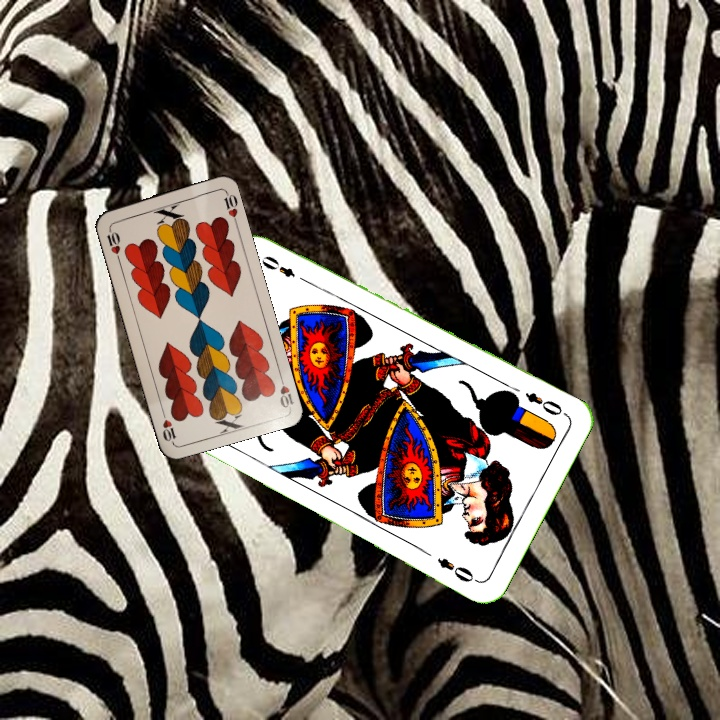EO: (521, 388, 570, 419)
H10: (102, 223, 123, 263), (275, 370, 296, 410)
